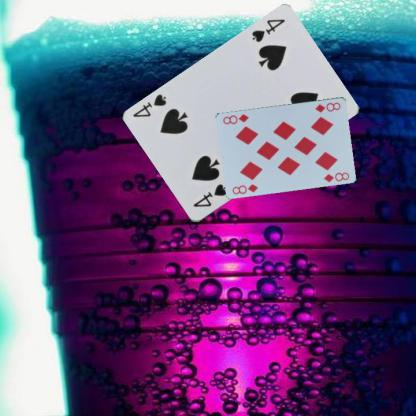4s: (191, 182, 228, 209), (249, 17, 286, 44)
8d: (313, 99, 342, 114), (230, 181, 259, 195)
